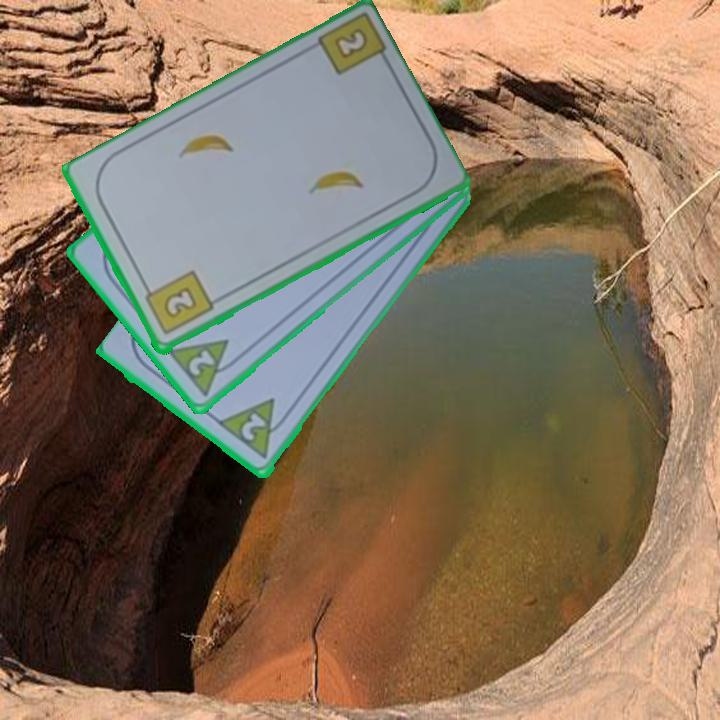2b: (140, 267, 216, 338), (330, 25, 371, 63)
2p: (216, 395, 294, 463), (164, 336, 244, 401)
